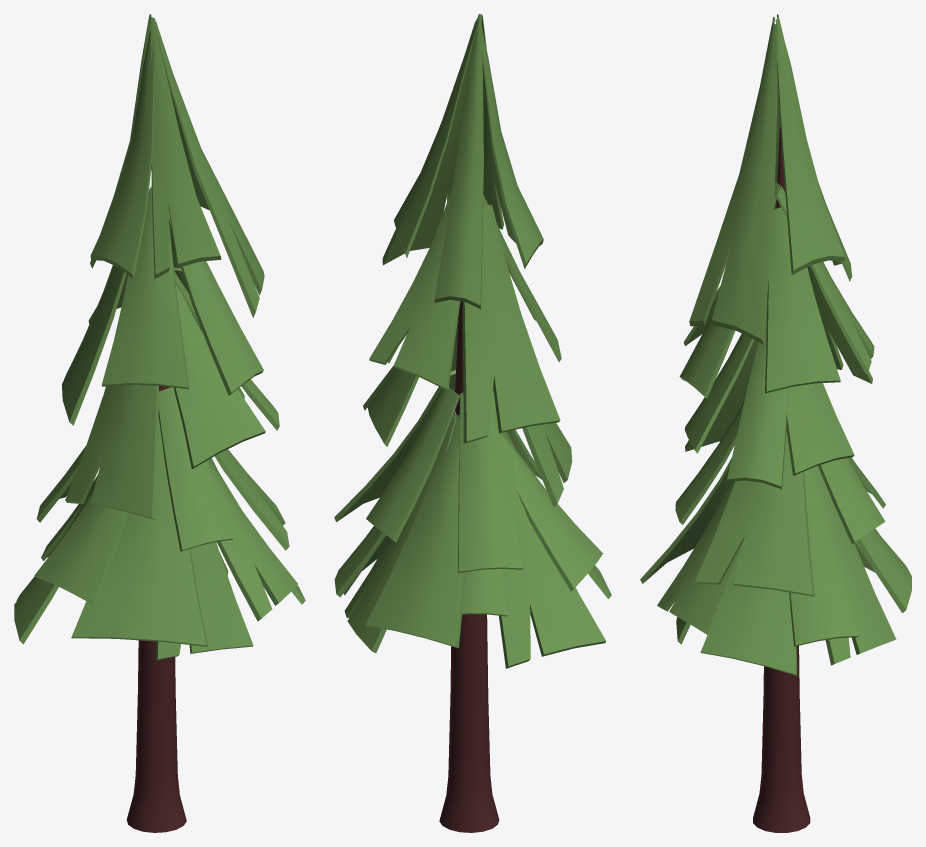
Rendered from tree_sm.fbx.
The picture shows the model from 3 angles, left to right: view 1: azimuth 30°, elevation 25°; view 2: azimuth 150°, elevation 25°; view 3: azimuth 270°, elevation 25°; orthographic projection.
Parts seen in each view (by area): view 1: tree01.037|tree|Dupli|; view 2: tree01.037|tree|Dupli|; view 3: tree01.037|tree|Dupli|.
Part boxes in pixels (left/top/right/bottom): tree01.037|tree|Dupli|: left=14, top=14, right=305, bottom=832; tree01.037|tree|Dupli|: left=334, top=14, right=611, bottom=832; tree01.037|tree|Dupli|: left=640, top=14, right=911, bottom=832.
Size of what is drawn, in the model's own units: 480 by 1433 by 440.
